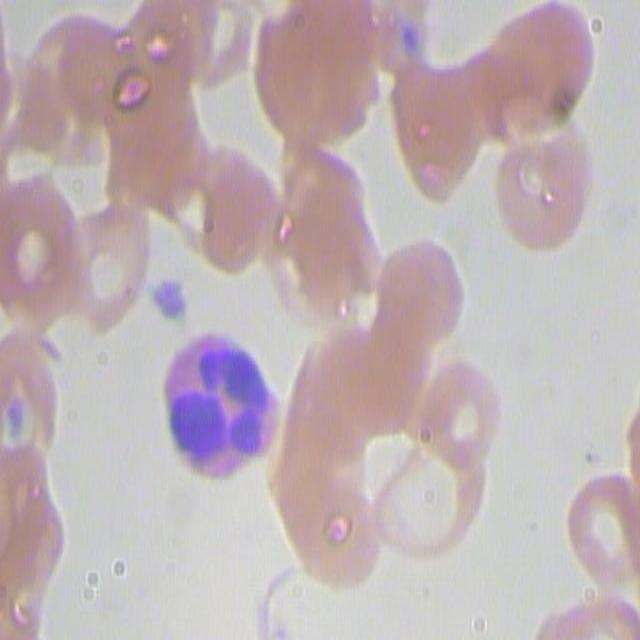RBC: (276, 156, 394, 358), (288, 360, 386, 598), (103, 22, 203, 226), (246, 0, 380, 144), (477, 0, 594, 148), (362, 436, 482, 567), (49, 188, 150, 335), (372, 0, 510, 101), (164, 158, 274, 278), (21, 5, 121, 135), (392, 70, 482, 210), (1, 164, 81, 321), (494, 139, 588, 253), (415, 359, 505, 472), (4, 491, 70, 640), (564, 470, 638, 599), (0, 323, 60, 481), (172, 0, 253, 89)
WBC: (154, 314, 274, 510)
platelets: (146, 272, 192, 328)
